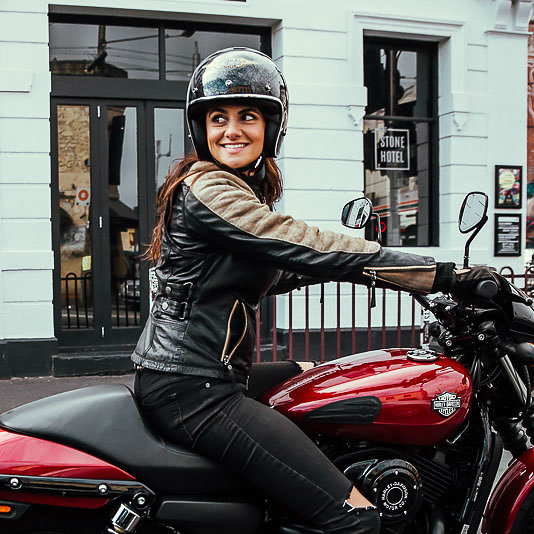helmet: (157, 36, 480, 401)
